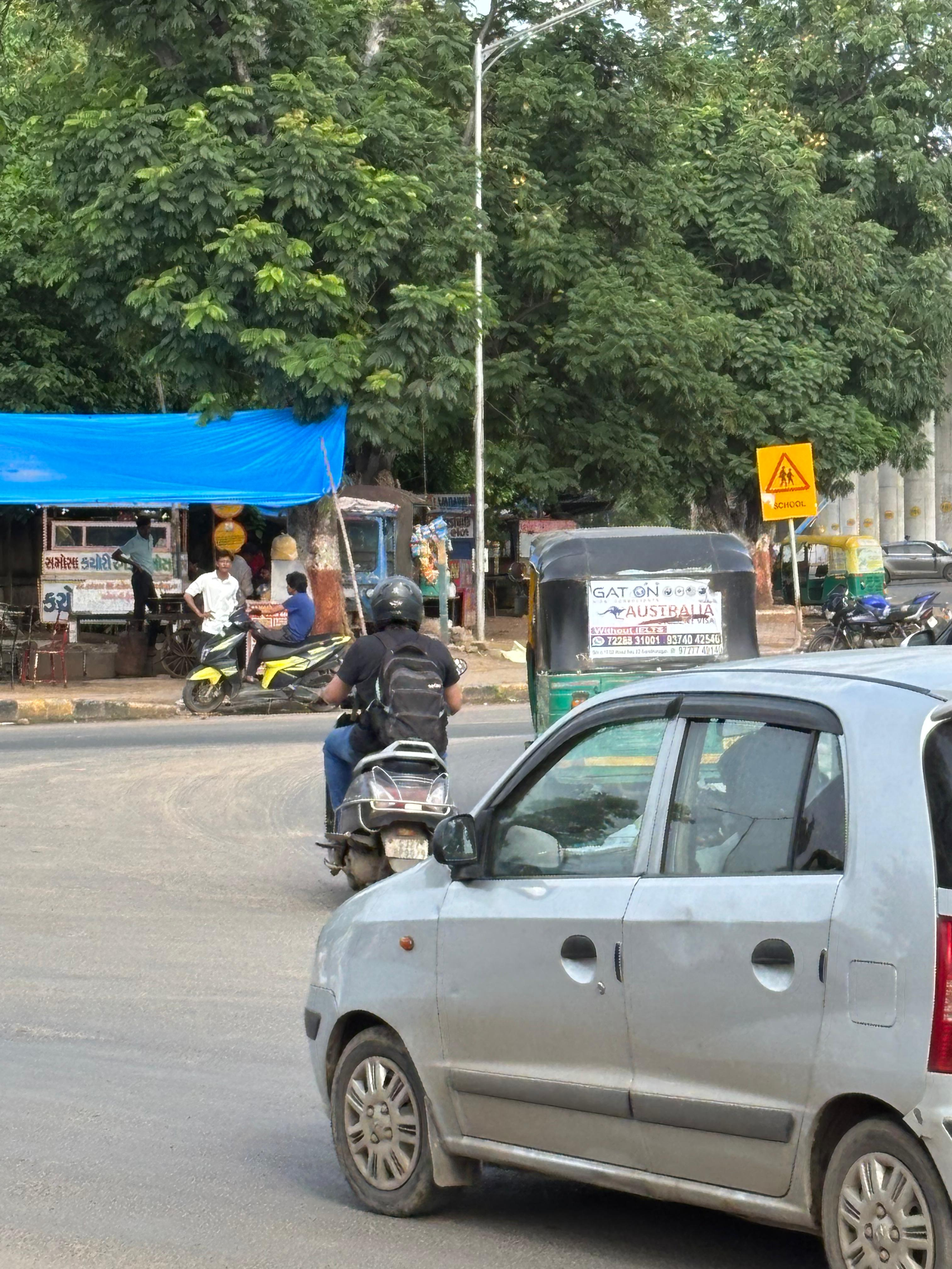BikeWithRider: (290, 564, 480, 933)
Helmet: (356, 564, 436, 641)
